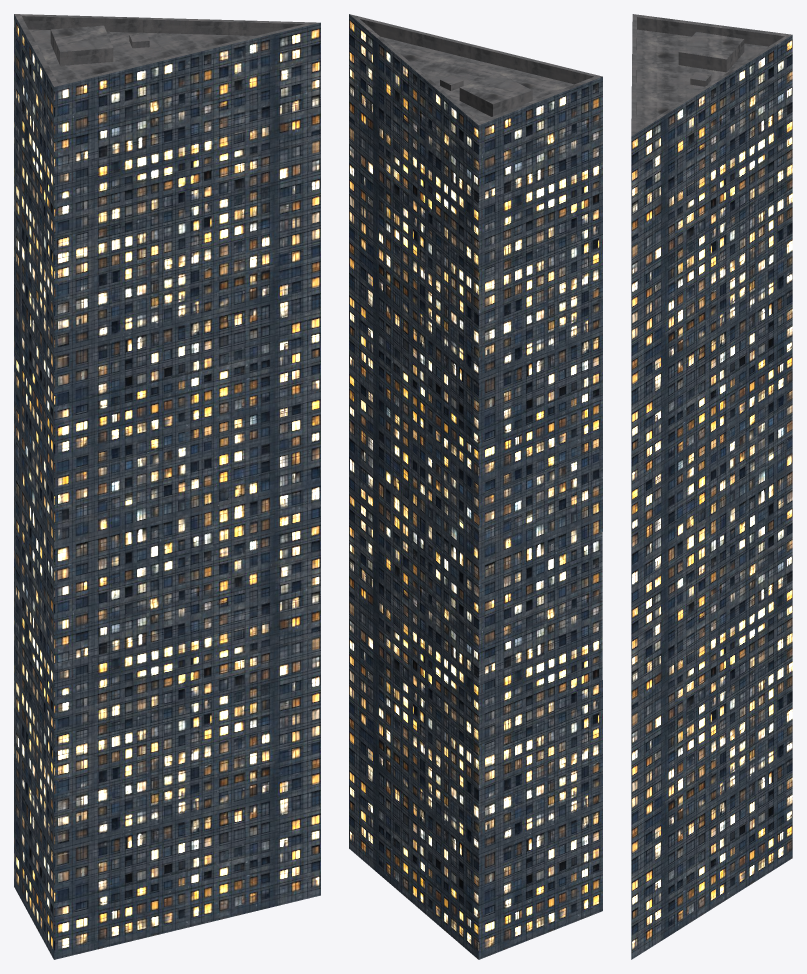
File: triangular-high-rise.glb
The picture shows the model from 3 angles, left to right: view 1: azimuth 30°, elevation 25°; view 2: azimuth 150°, elevation 25°; view 3: azimuth 270°, elevation 25°; orthographic projection. The views are drawn at different scales.
Visible parts, largest first — view 1: triangular-high-rise; view 2: triangular-high-rise; view 3: triangular-high-rise.
Part boxes in pixels (<box>): triangular-high-rise: <box>14,14,320,959</box>; triangular-high-rise: <box>349,14,602,959</box>; triangular-high-rise: <box>631,14,792,959</box>.
Bounding box in the file's own units: 77.54 × 243 × 43.15.
Materials: 2 (2 with a texture image).
